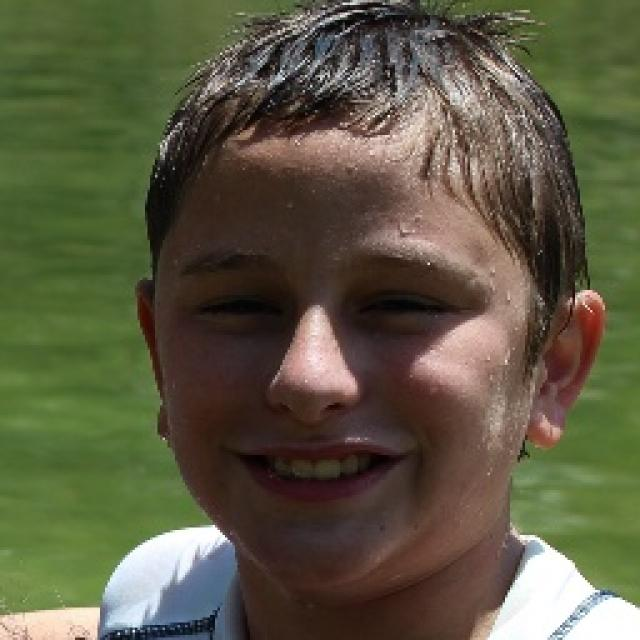earlobe: (528, 291, 606, 449), (136, 279, 170, 451)
